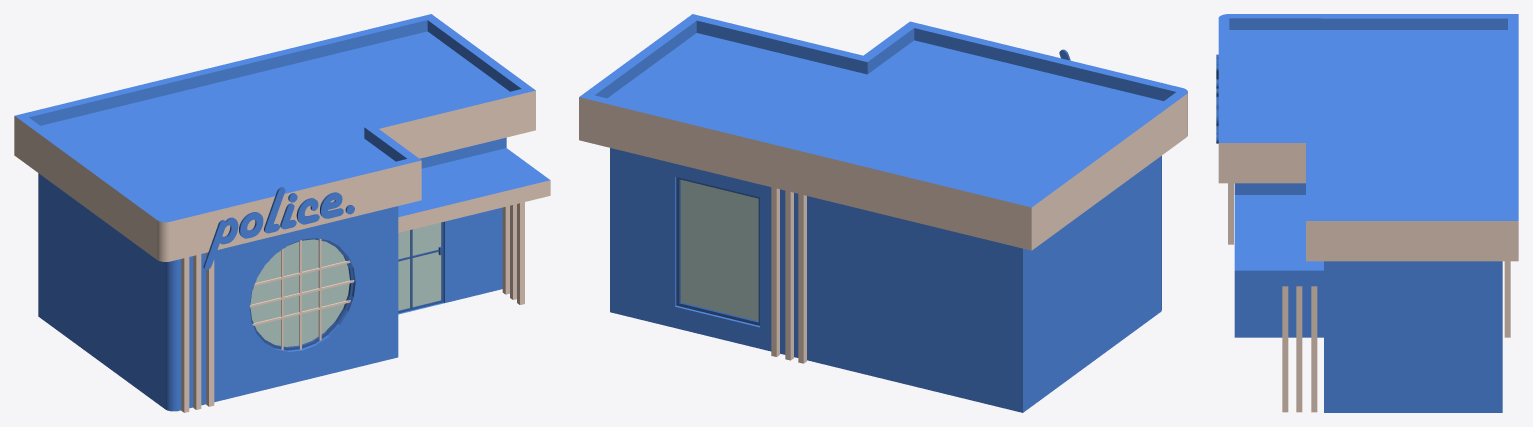
The model's file is police_station.glb.
3 views of the same model, side by side, from view 1: azimuth 30°, elevation 25°; view 2: azimuth 150°, elevation 25°; view 3: azimuth 270°, elevation 25° (orthographic). The views are drawn at different scales.
Visible parts, largest first — view 1: body; view 2: body; view 3: body.
Boxes of the visible parts, <box> form: body: <box>14,14,550,412</box>; body: <box>579,14,1187,412</box>; body: <box>1216,14,1518,412</box>.
Size of the model in its own units: 8.45 by 4 by 5.22.
